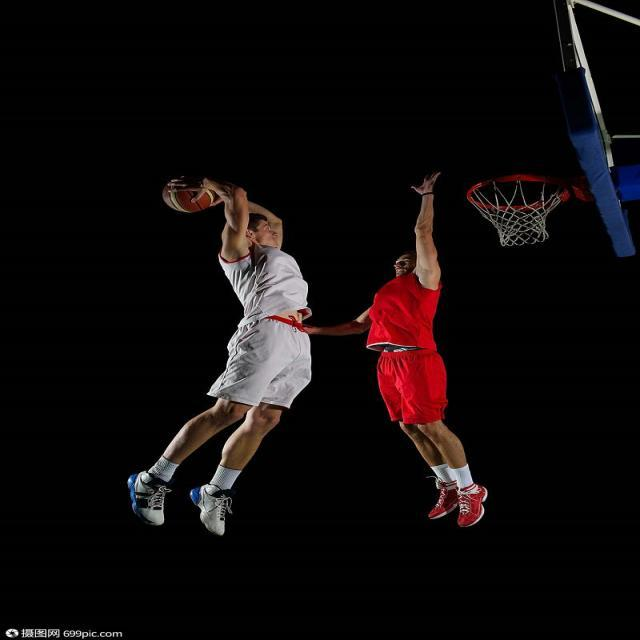rim: (158, 176, 212, 214)
